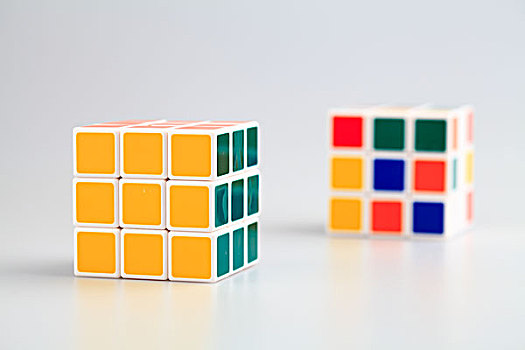cube: (73, 115, 262, 283)
